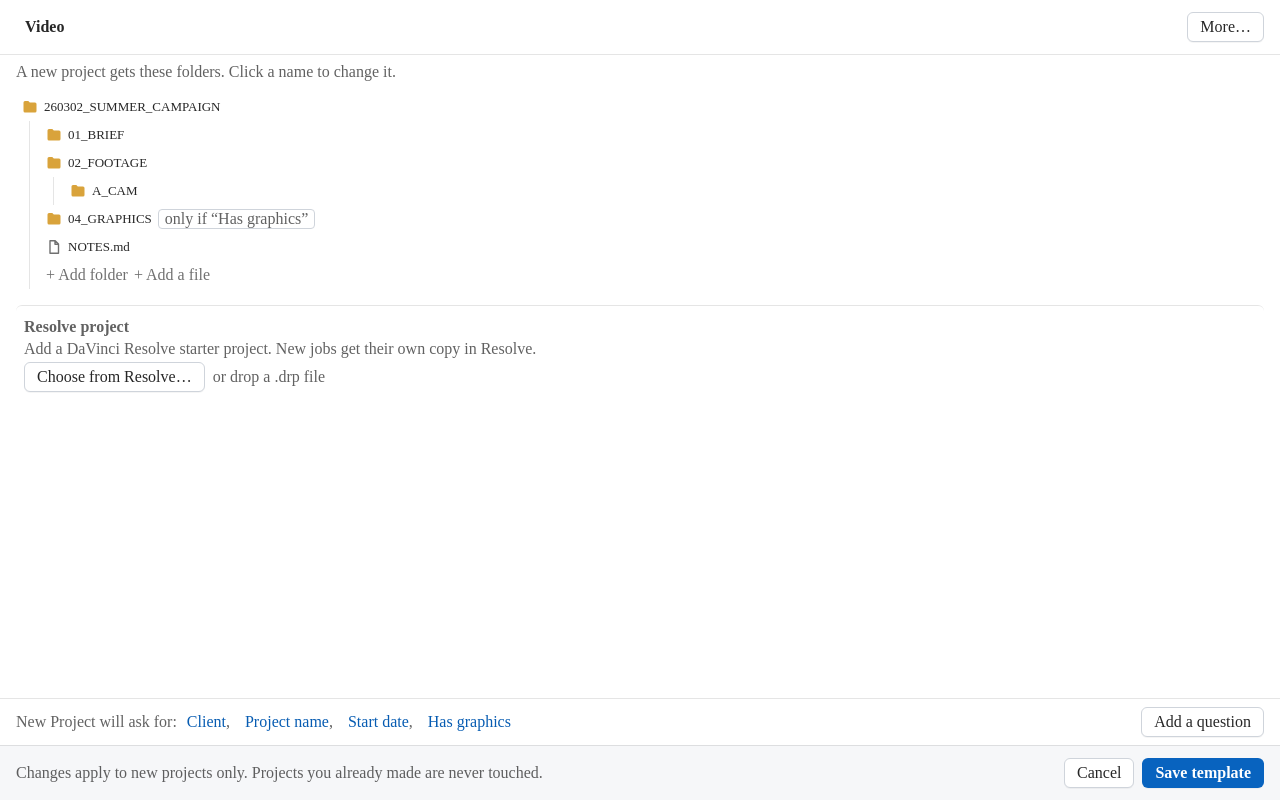
Test: TemplateEditor (one screen) › never says “blank”
Expected: the text "260302_SUMMER_CAMPAIGN" is shown, [44,99,220,115]
Click the button "Has graphics" at (469, 722), box [428,713,511,731]
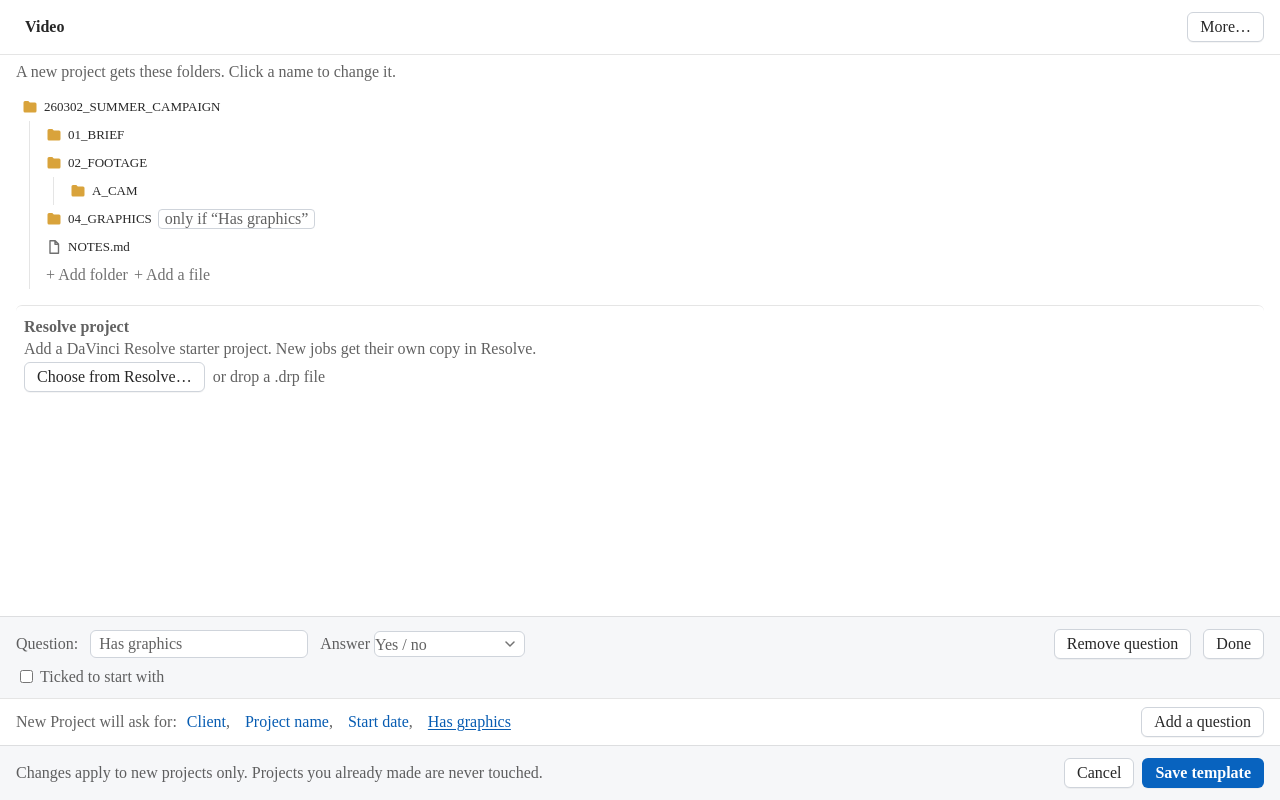
Click the text "01_BRIEF" at (96, 135), box [68,127,124,143]
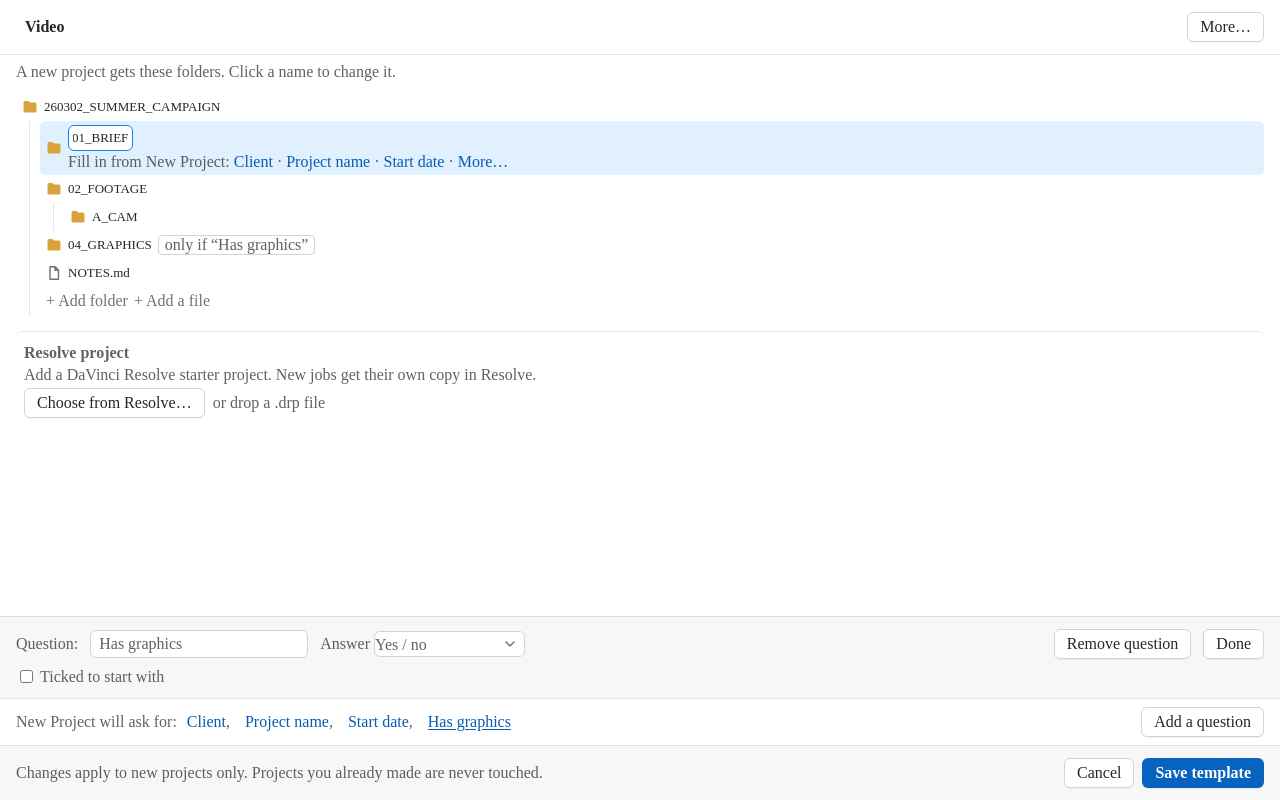
Result: the field named "Folder name" is shown at [73,127,128,149]
Click the button "More…" in the row of "Fill in from New Project:" at (483, 162), box [458,153,508,171]
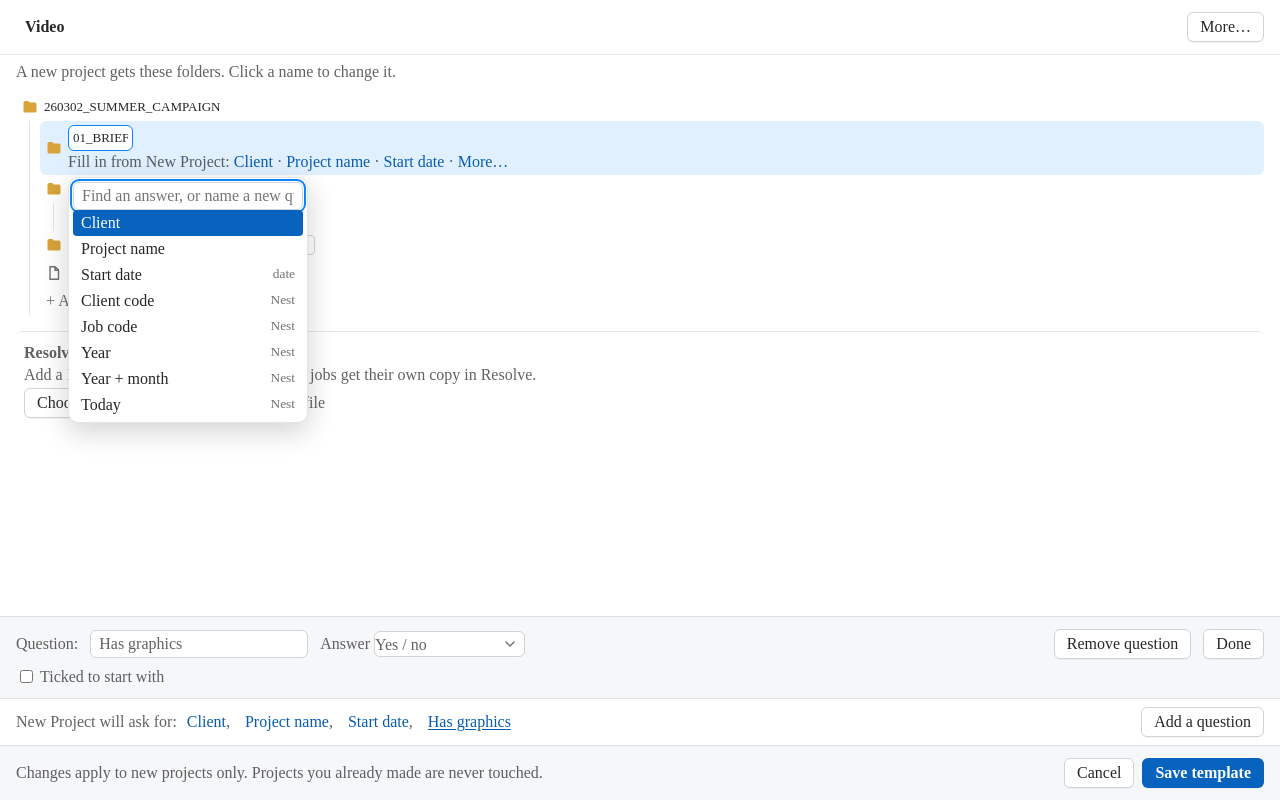
Type "Shoot day" into the field labelled "Find an answer, or name a new question" at (188, 196), box [73,182,303,210]
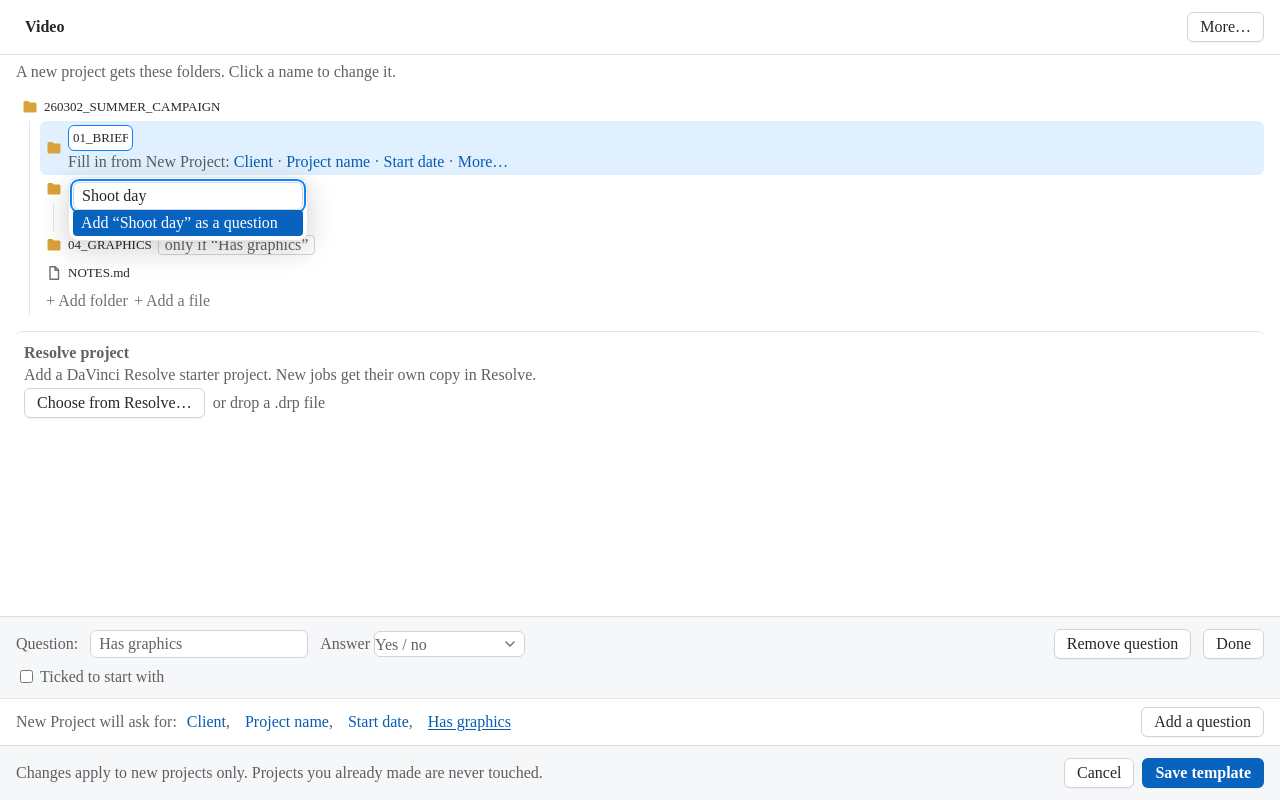
Result: the option "Add “Shoot day” as a question" is shown at [73,210,303,236]
